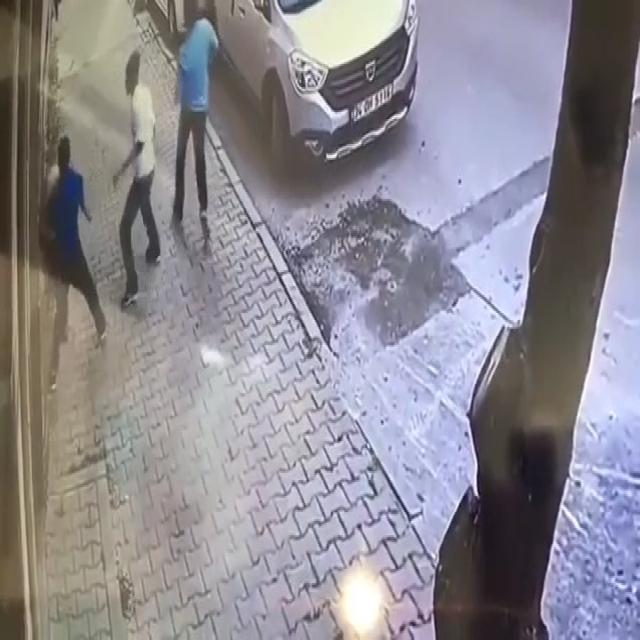fight: (37, 129, 111, 399)
